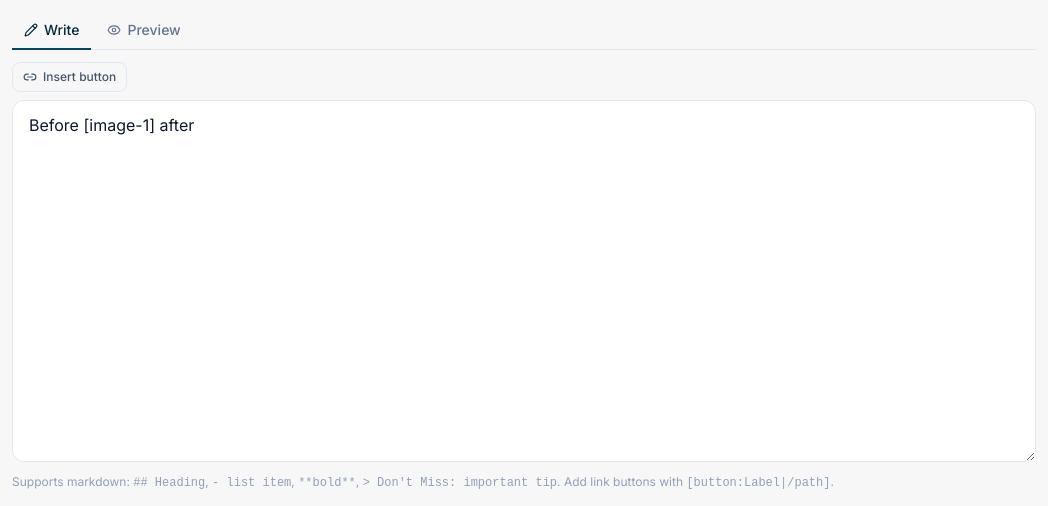
Test: BlogContentEditor › renders [image-N] as placeholder stubs in preview
Click the button "Preview" at point(144, 31), box [96,12,193,50]
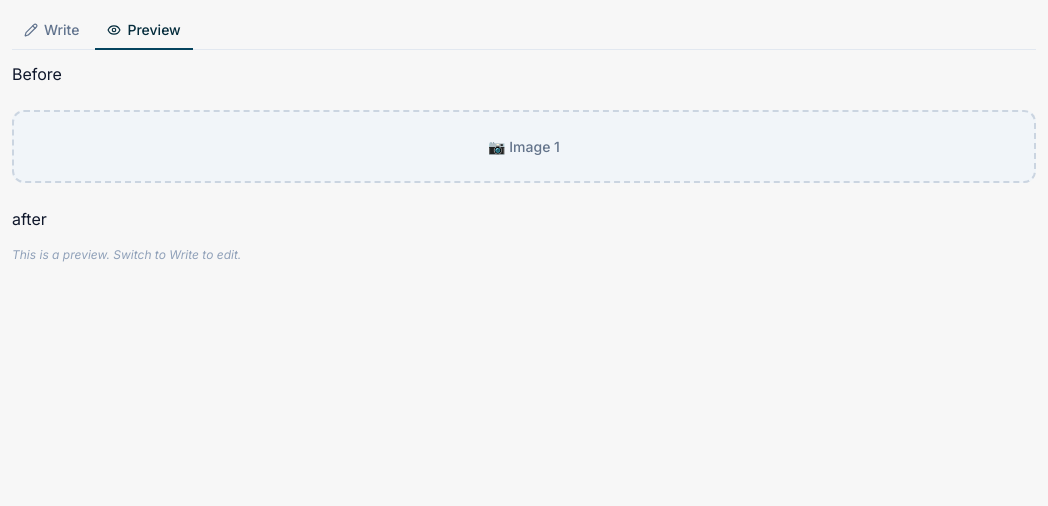
Result: the text "📷 Image 1" is shown at [12,110,1036,183]
